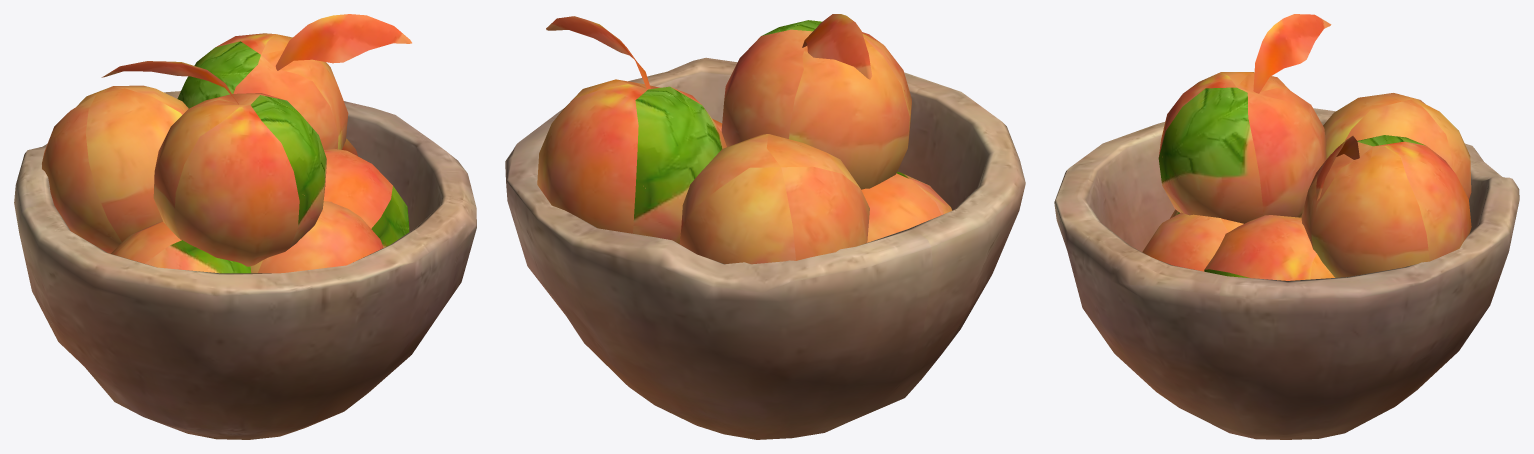
The picture shows the model from 3 angles, left to right: view 1: azimuth 30°, elevation 25°; view 2: azimuth 150°, elevation 25°; view 3: azimuth 270°, elevation 25°; orthographic projection. The views are drawn at different scales.
Parts seen in each view (by area): view 1: SM_Dec_Clay_Bowl_Peaches_LOD0; view 2: SM_Dec_Clay_Bowl_Peaches_LOD0; view 3: SM_Dec_Clay_Bowl_Peaches_LOD0.
Boxes of the visible parts, <box> form: SM_Dec_Clay_Bowl_Peaches_LOD0: <box>14,14,476,439</box>; SM_Dec_Clay_Bowl_Peaches_LOD0: <box>505,14,1025,439</box>; SM_Dec_Clay_Bowl_Peaches_LOD0: <box>1054,14,1519,439</box>.
Bounding box in the file's own units: 0.34 × 0.306 × 0.353.
2 materials, 2 textured.
